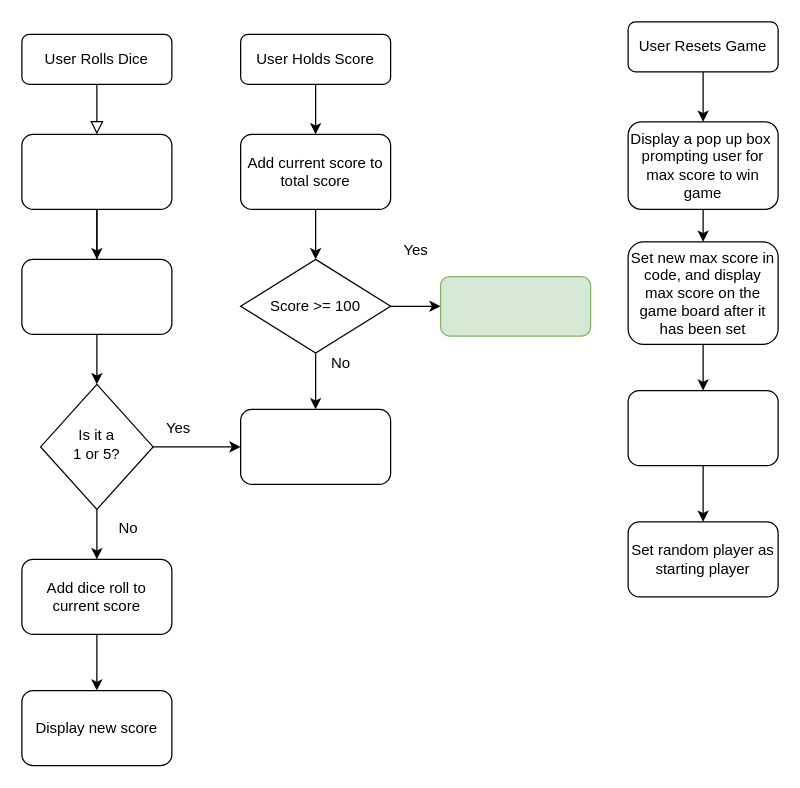
Image size: 800x788. Some labels were removed from this diagram. Here are the shapes that lost their labels. From the top down, the box of each, then its label:
(21, 133, 172, 209): Generate random dice roll
(21, 258, 172, 334): Display dice roll
(439, 275, 591, 336): Current player wins
(239, 408, 391, 484): Switch Player
(627, 389, 778, 466): Set all scores to 0
